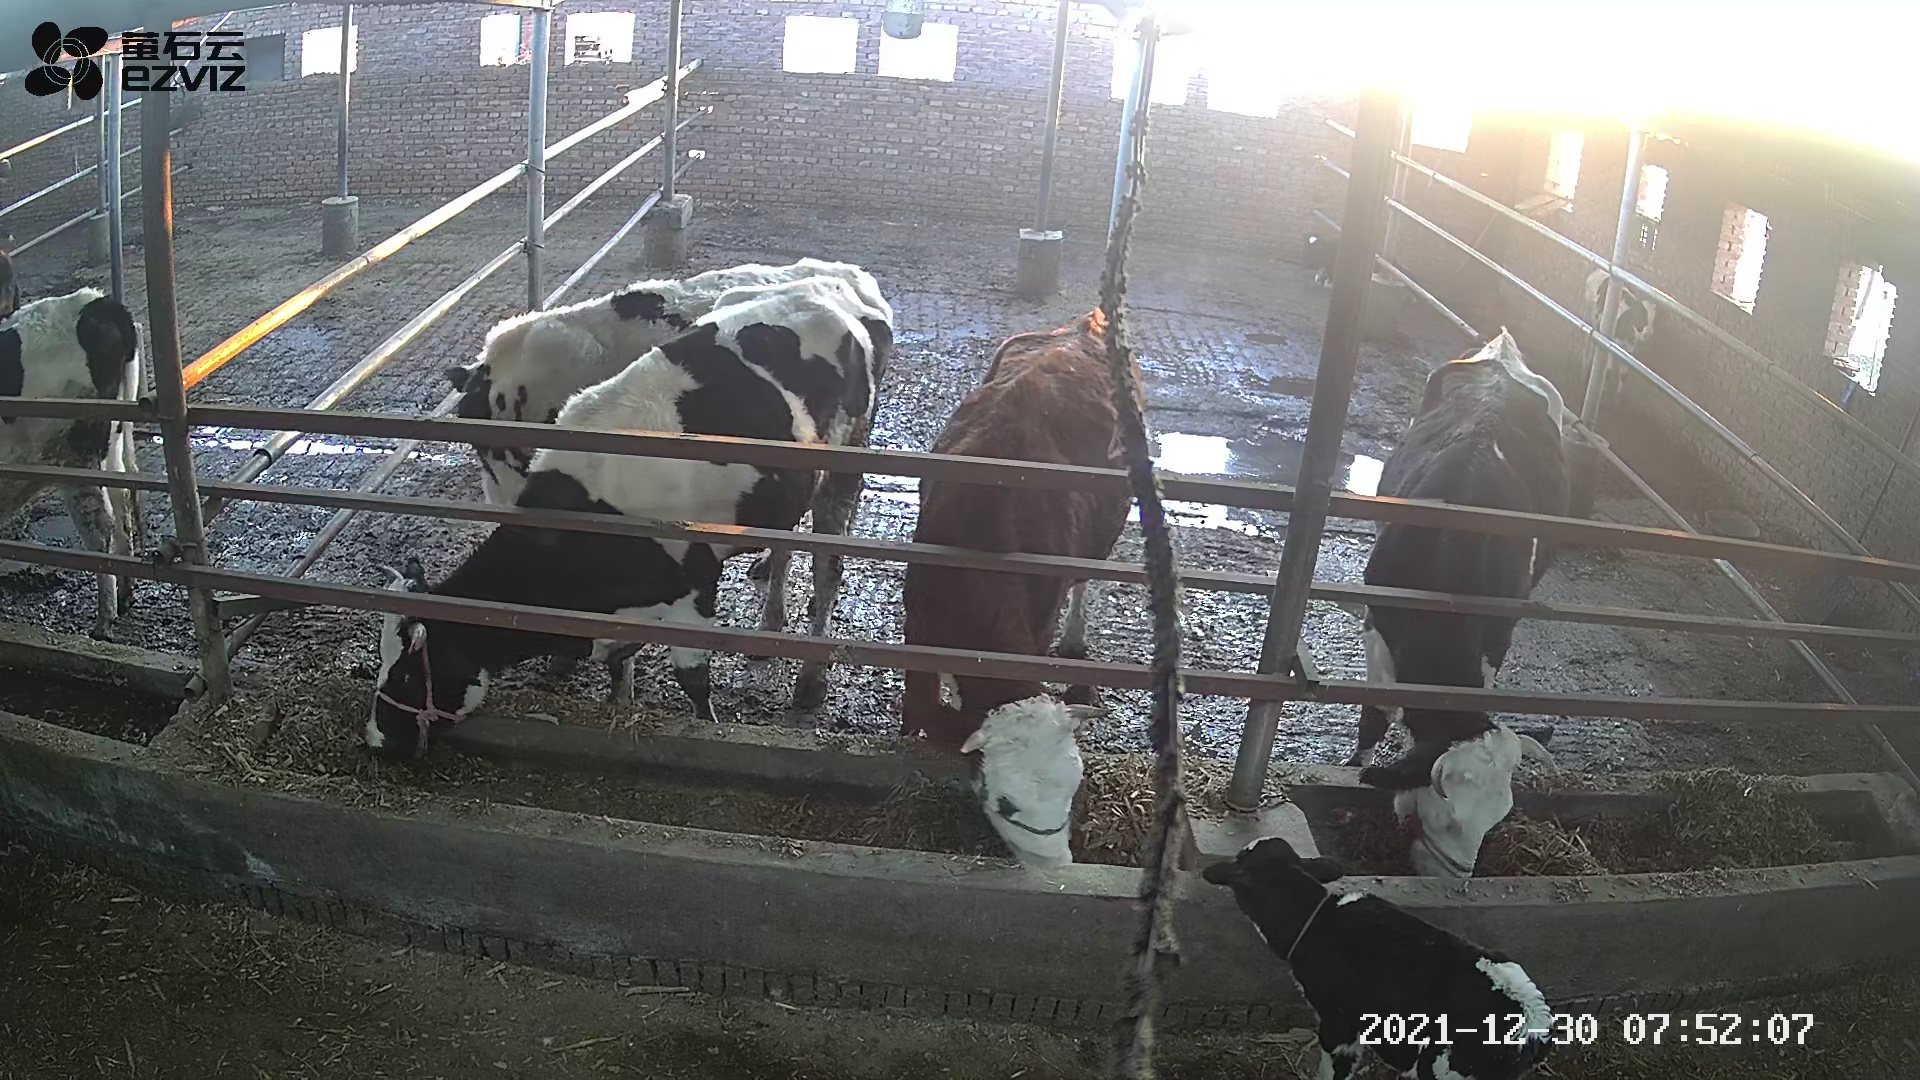cow: (363, 276, 893, 758), (442, 255, 889, 582), (898, 305, 1146, 866), (1344, 322, 1569, 880)
